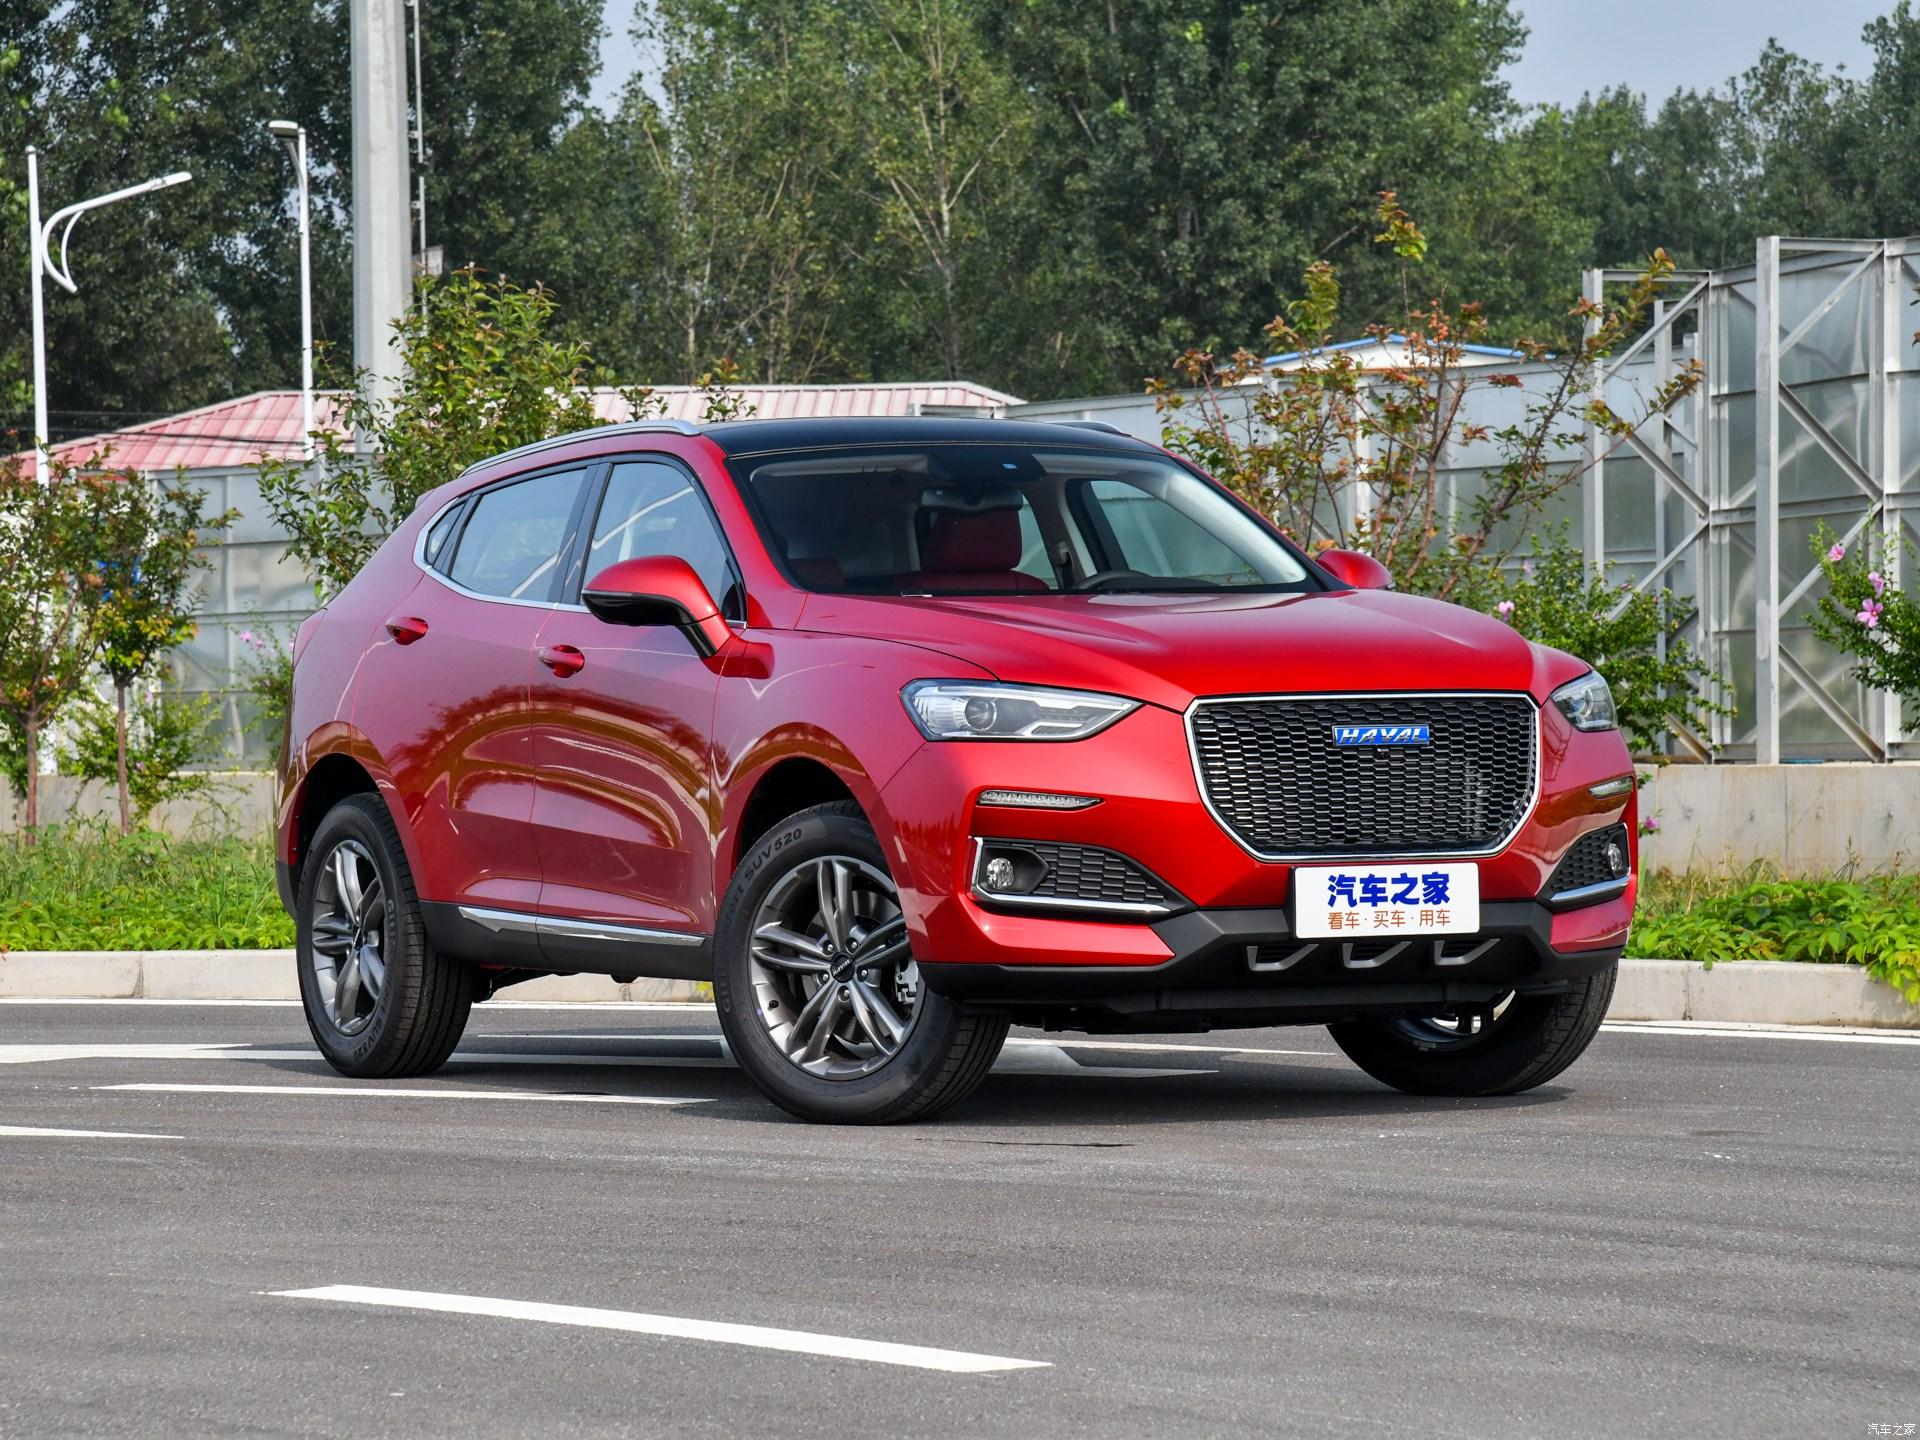car: (166, 393, 1683, 1184)
